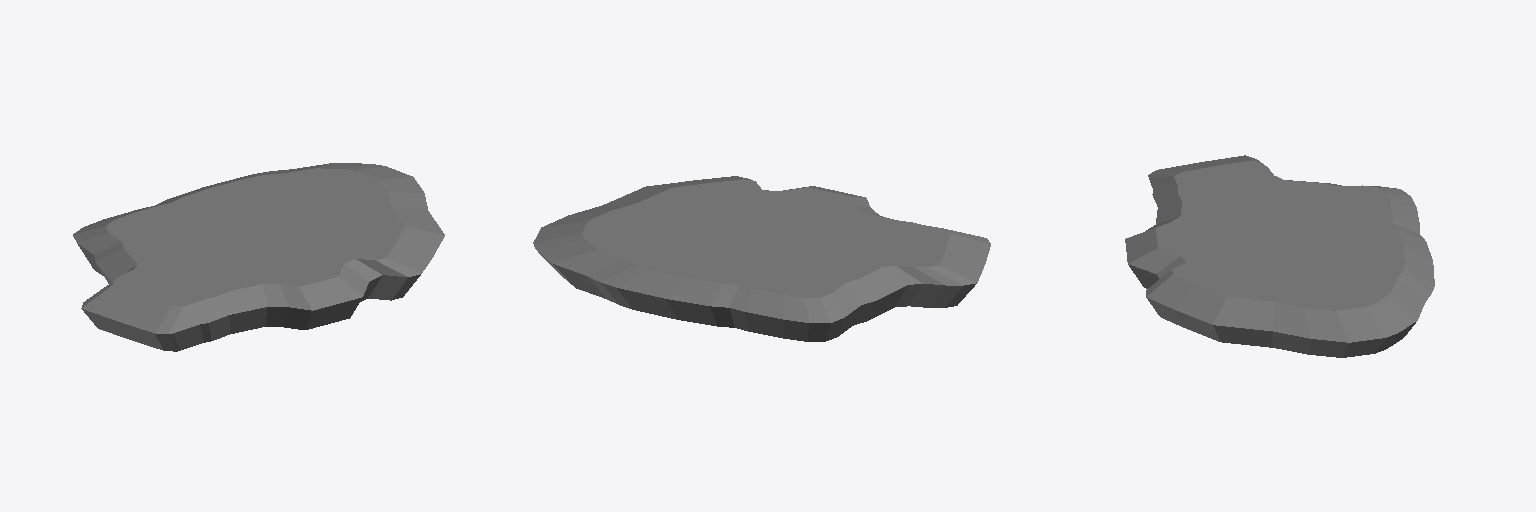
The model's file is carne.obj.
3 views of the same model, side by side, from view 1: azimuth 30°, elevation 25°; view 2: azimuth 150°, elevation 25°; view 3: azimuth 270°, elevation 25° (orthographic).
Visible parts, largest first — view 1: Raw_meat_Plane.001; view 2: Raw_meat_Plane.001; view 3: Raw_meat_Plane.001.
Part boxes in pixels (x1,y1,x2,y2): Raw_meat_Plane.001: (73, 163, 444, 351); Raw_meat_Plane.001: (533, 176, 990, 341); Raw_meat_Plane.001: (1125, 155, 1434, 357).
Bounding box in the file's own units: 1.39 × 0.1302 × 0.9685.